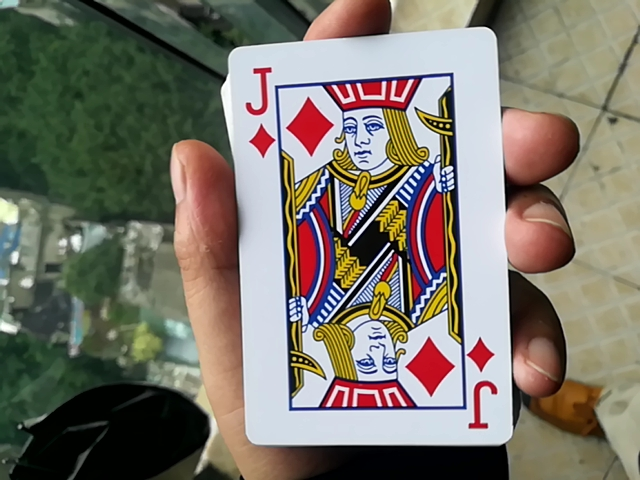fk j: (203, 34, 520, 443)
